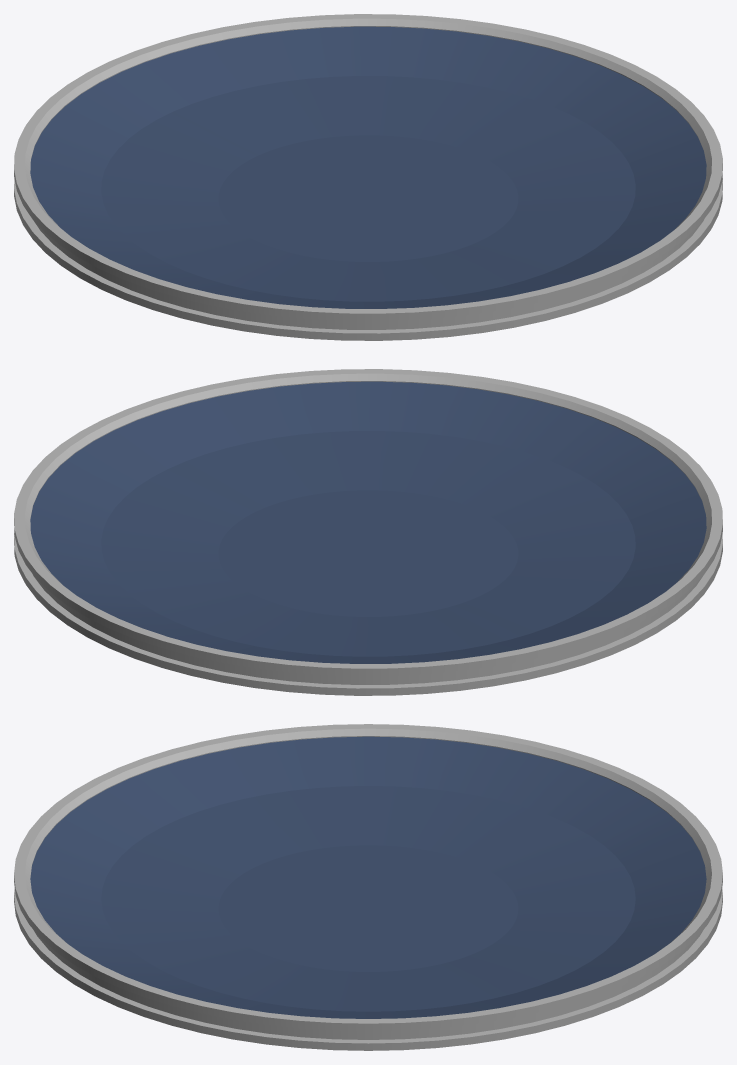
The picture shows the model from 3 angles, top to bottom: view 1: azimuth 30°, elevation 25°; view 2: azimuth 150°, elevation 25°; view 3: azimuth 270°, elevation 25°; orthographic projection.
Parts seen in each view (by area): view 1: basin, stepped_rim; view 2: basin, stepped_rim; view 3: basin, stepped_rim.
Part boxes in pixels (x1,y1,x2,y2): basin: (30,26,706,308); stepped_rim: (14,14,722,340); basin: (30,381,706,663); stepped_rim: (14,369,722,695); basin: (30,736,706,1018); stepped_rim: (14,724,722,1050).
Size of the model in its own units: 0.26 by 0.0201 by 0.26.
